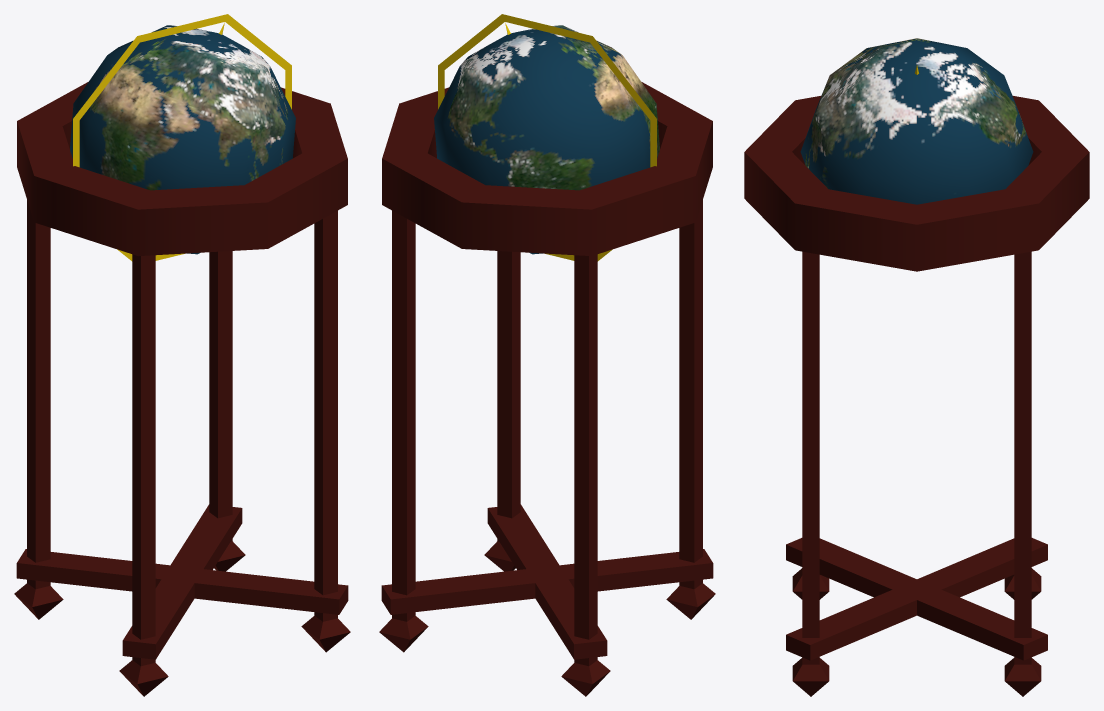
File: globe_anim_c4d.fbx
3 renders of one model, left to right at view 1: azimuth 30°, elevation 25°; view 2: azimuth 150°, elevation 25°; view 3: azimuth 270°, elevation 25°, orthographic.
Visible parts, largest first — view 1: Globe_3, Top, Leg_1, Leg_1_2, Leg, Cube, Leg_1_4, Cube_1, Ring, Foot_1, Foot_1_2, Foot_1_4; view 2: Globe_3, Top, Leg, Leg_1_4, Cube_1, Leg_1, Leg_1_2, Cube, Ring, Foot_1_4, Foot_1_3, Foot_1; view 3: Top, Globe_3, Cube_1, Cube, Leg_1_2, Leg_1_4, Foot_1_2, Foot_1_3.
Boxes of the visible parts, bbox=[...] form: Globe_3: bbox=[70, 25, 295, 254]; Top: bbox=[17, 82, 347, 256]; Leg_1: bbox=[132, 254, 155, 666]; Leg_1_2: bbox=[314, 210, 337, 621]; Leg: bbox=[27, 200, 50, 589]; Cube: bbox=[16, 549, 348, 614]; Leg_1_4: bbox=[209, 251, 232, 541]; Cube_1: bbox=[122, 504, 242, 659]; Ring: bbox=[73, 14, 291, 261]; Foot_1: bbox=[119, 660, 168, 696]; Foot_1_2: bbox=[301, 616, 350, 652]; Foot_1_4: bbox=[14, 583, 63, 619]; Globe_3: bbox=[434, 25, 659, 254]; Top: bbox=[382, 82, 712, 256]; Leg: bbox=[574, 254, 597, 666]; Leg_1_4: bbox=[392, 210, 415, 621]; Cube_1: bbox=[381, 549, 713, 614]; Leg_1: bbox=[679, 200, 702, 589]; Leg_1_2: bbox=[497, 251, 520, 541]; Cube: bbox=[487, 504, 607, 659]; Ring: bbox=[438, 14, 656, 261]; Foot_1_4: bbox=[561, 660, 610, 696]; Foot_1_3: bbox=[379, 616, 428, 652]; Foot_1: bbox=[666, 583, 715, 619]; Top: bbox=[744, 96, 1089, 271]; Globe_3: bbox=[800, 38, 1033, 204]; Cube_1: bbox=[786, 538, 1047, 660]; Cube: bbox=[786, 538, 1047, 660]; Leg_1_2: bbox=[802, 251, 819, 664]; Leg_1_4: bbox=[1014, 251, 1031, 664]; Foot_1_2: bbox=[792, 658, 829, 696]; Foot_1_3: bbox=[1004, 658, 1041, 696].
Bounding box in the file's own units: 400 × 788 × 400.
3 materials, 1 textured.
